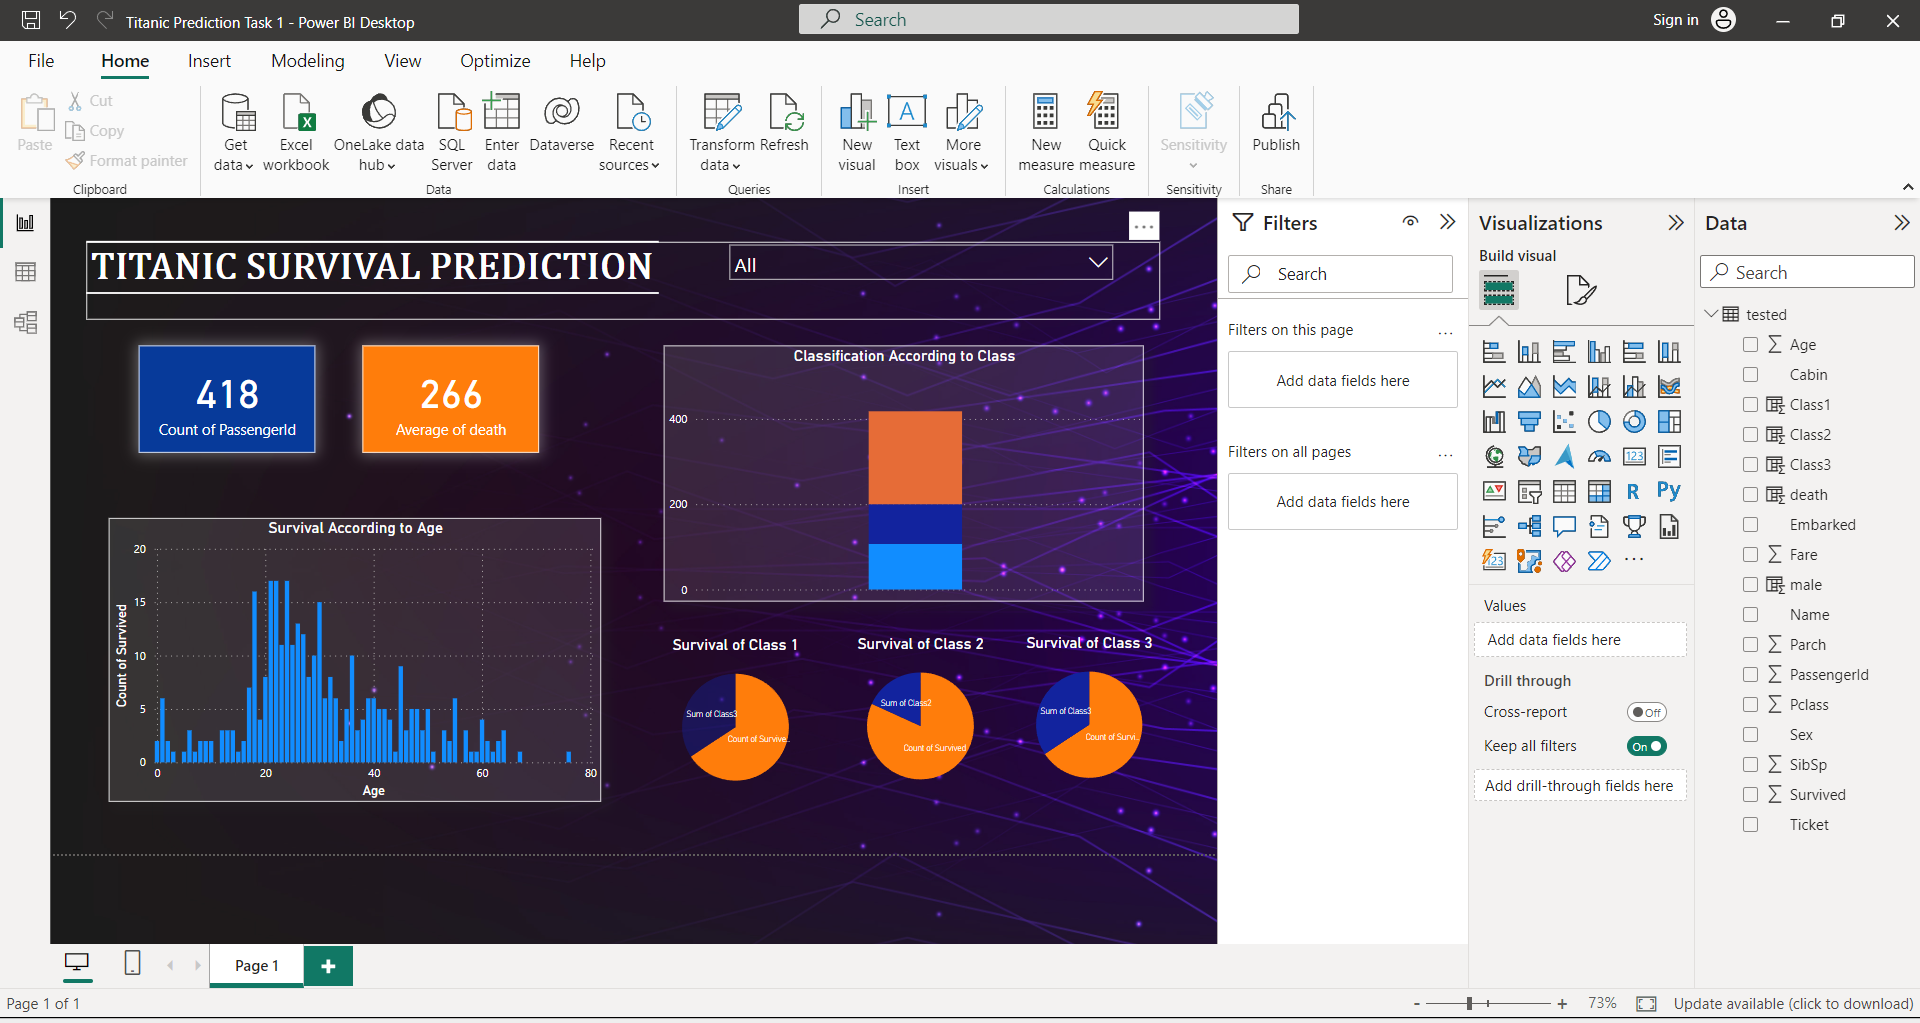

Layout of this report page (visuals, bound fields, positions):
{"tool":"powerbi","page":{"name":"Page 1","canvas":[1280,720],"ordinal":0},"visuals":[{"type":"textbox","box":[39.8,48,1177.7,85],"z":0},{"type":"card","fields":{"Values":["CountNonNull(tested.PassengerId)"]},"box":[97.3,161.8,193.3,117.9],"z":1000},{"type":"shape","box":[39.8,28.8,627.9,150.8],"z":2000},{"type":"shape","box":[39.8,28.8,627.9,38.4],"z":3000},{"type":"card","fields":{"Values":["Avg(tested.death)"]},"box":[342.8,161.8,193.3,117.9],"z":4000},{"type":"pieChart","title":"Survival of Class 3","fields":{"Y":["CountNonNull(tested.Survived)","Sum(tested.Class3)"]},"box":[999.5,477.1,281.1,182.3],"z":5000},{"type":"pieChart","title":"Survival of Class 2","fields":{"Y":["CountNonNull(tested.Survived)","Sum(tested.Class2)"]},"box":[807.5,478.5,294.8,182.3],"z":6000},{"type":"pieChart","title":"Survival of Class 1","fields":{"Y":["CountNonNull(tested.Survived)","Sum(tested.Class3)"]},"box":[604.6,479.9,294.8,182.3],"z":7000},{"type":"columnChart","title":"Survival According to Age","fields":{"Y":["CountNonNull(tested.Survived)"],"Category":["tested.Age"]},"box":[64.4,351,540.2,311.2],"z":8000},{"type":"columnChart","title":"Classification According to Class","fields":{"Y":["Sum(tested.Class1)","Sum(tested.Class2)","Sum(tested.Class3)"]},"box":[673.2,161.8,526.5,281.1],"z":9000},{"type":"slicer","fields":{"Values":["tested.Sex","tested.Class1","tested.Class2","tested.Class3"]},"box":[734.9,28.8,441.5,75.4],"z":9001}]}

Visuals, with their boxes on the page's 1280x720 design canvas (x1, y1, x2, y2). These are canvas units, not pixel positions in the 1920x1023 screenshot, which may show the page scaled, cropped or inside an application window:
textbox: bbox=[40, 48, 1218, 133]
card - CountNonNull(tested.PassengerId): bbox=[97, 162, 291, 280]
shape: bbox=[40, 29, 668, 180]
shape: bbox=[40, 29, 668, 67]
card - Avg(tested.death): bbox=[343, 162, 536, 280]
"Survival of Class 3" pieChart: bbox=[1000, 477, 1281, 659]
"Survival of Class 2" pieChart: bbox=[808, 478, 1102, 661]
"Survival of Class 1" pieChart: bbox=[605, 480, 899, 662]
"Survival According to Age" columnChart: bbox=[64, 351, 605, 662]
"Classification According to Class" columnChart: bbox=[673, 162, 1200, 443]
slicer - tested.Sex x tested.Class1: bbox=[735, 29, 1176, 104]
